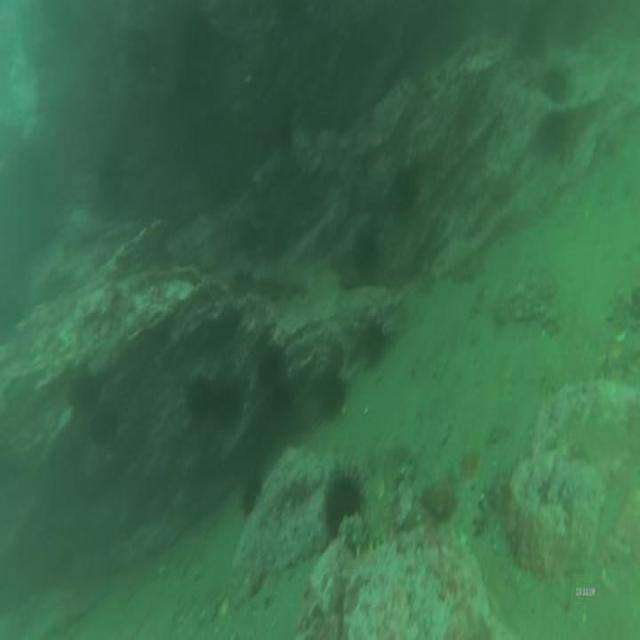echinus: (316, 458, 367, 547), (207, 376, 252, 435), (533, 104, 569, 166), (392, 169, 428, 217), (254, 341, 288, 389), (354, 316, 388, 364), (317, 374, 348, 426), (85, 404, 121, 446), (69, 368, 103, 411), (184, 374, 213, 422), (355, 234, 384, 280), (241, 468, 265, 520)
